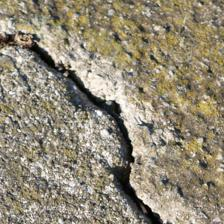Crack: (3, 14, 160, 204)
